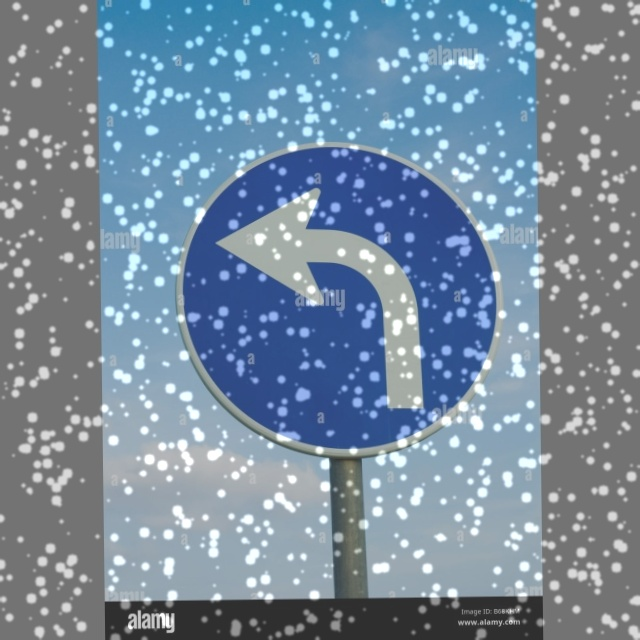Compulsory_Turn_Left_Ahead: (179, 144, 490, 461)
